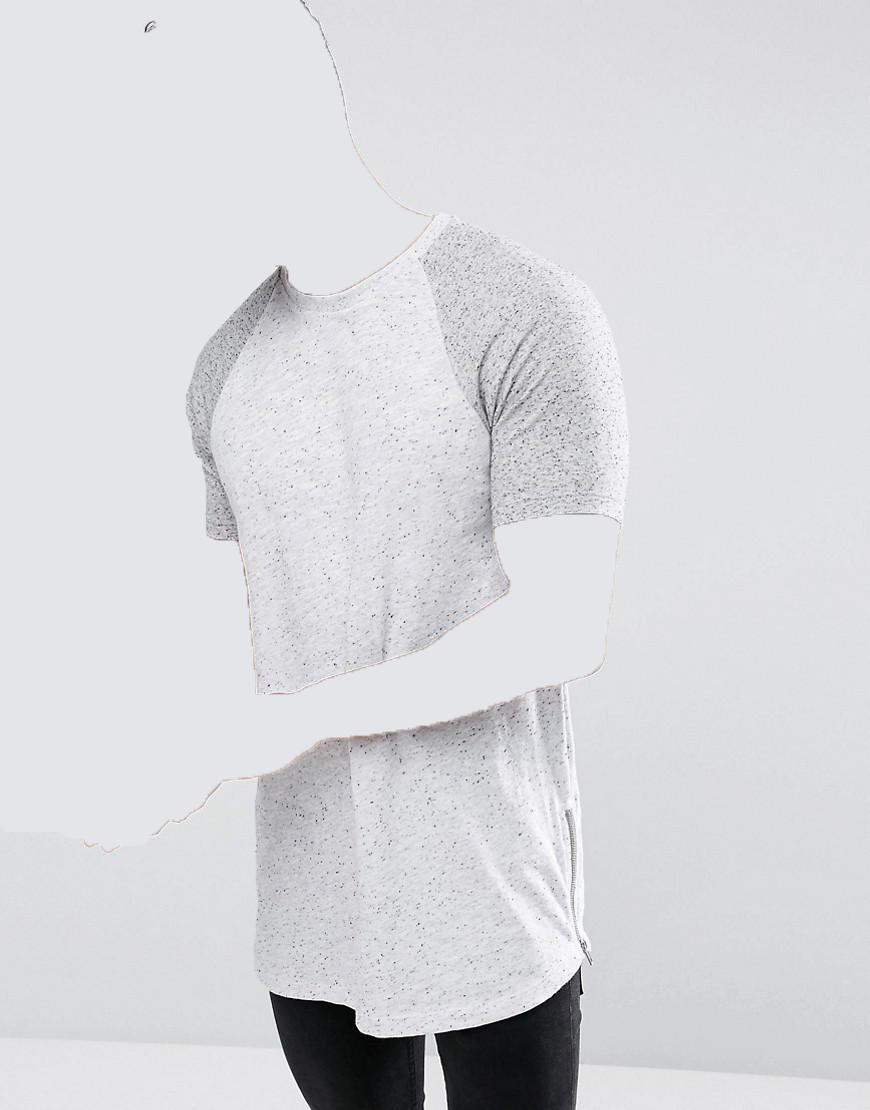teeshirt: (173, 218, 644, 1042)
